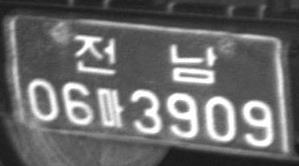0: (203, 93, 239, 144), (26, 76, 60, 123)
3: (129, 87, 164, 135)
6: (61, 79, 95, 126)
9: (165, 90, 201, 141), (241, 97, 275, 149)
마: (95, 85, 125, 129)
전남_D: (73, 31, 219, 88)
